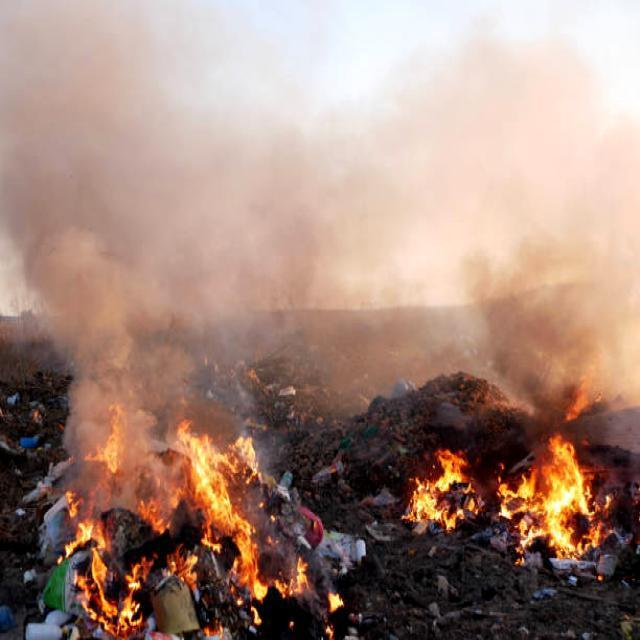Fire: (35, 399, 302, 631), (392, 446, 628, 578)
Smoke: (0, 6, 621, 418)
